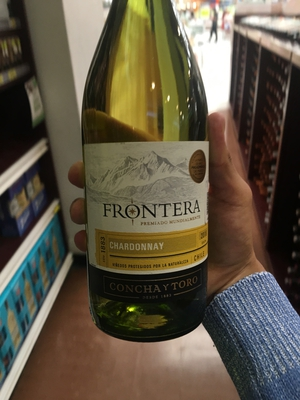frontera chardonnay: (84, 6, 224, 343)
